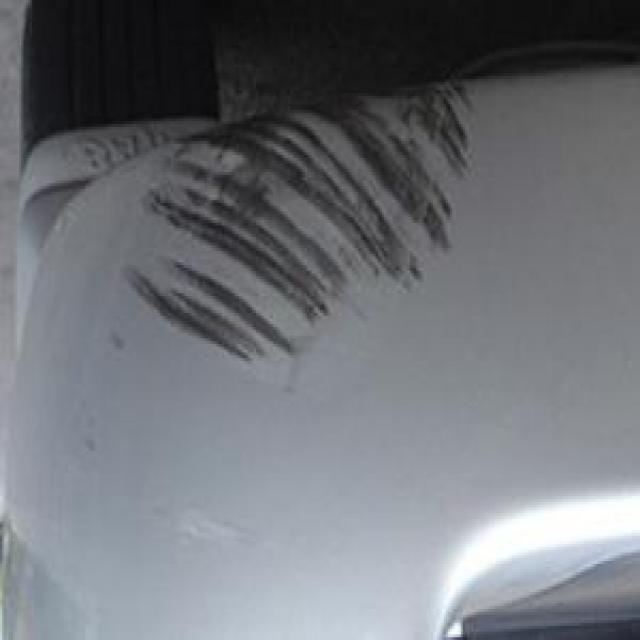scratch: (41, 102, 528, 394)
